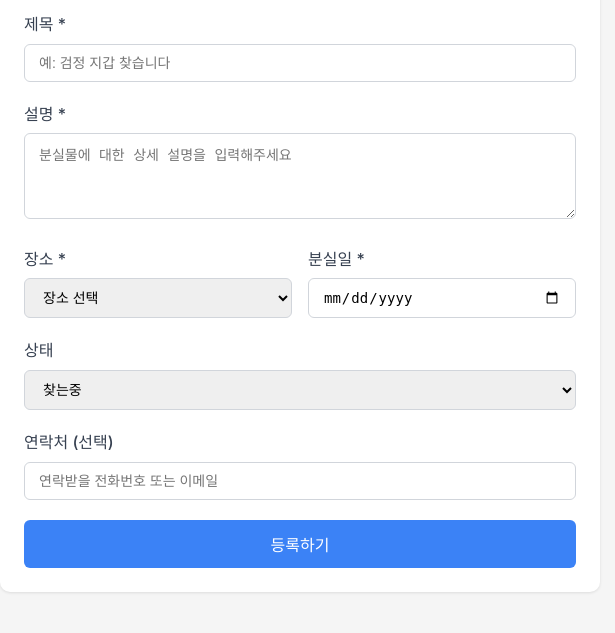
Test: ItemForm › 장소를 선택하지 않으면 에러를 표시한다
Type "검정 지갑 찾습니다" into the field labelled "제목 *" at (300, 63), box x1=24 y1=44 x2=576 y2=82
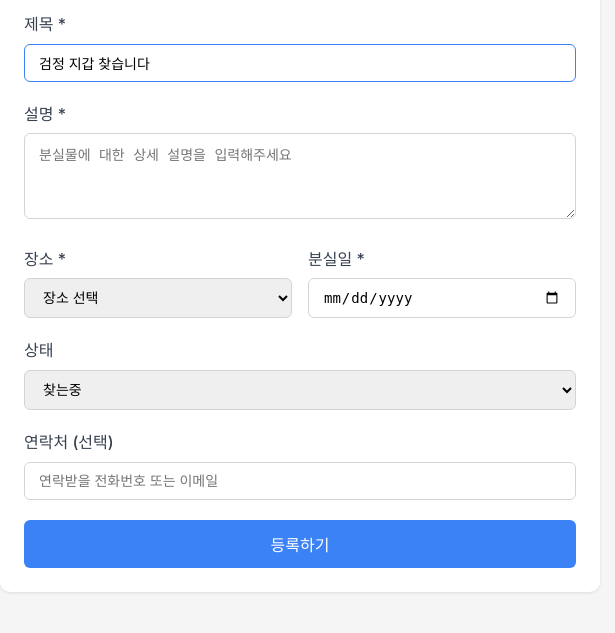
Type "도서관에서 분실한 검정색 가죽 지갑입니다" into the text box labelled "설명 *" at (300, 176), box x1=24 y1=133 x2=576 y2=219
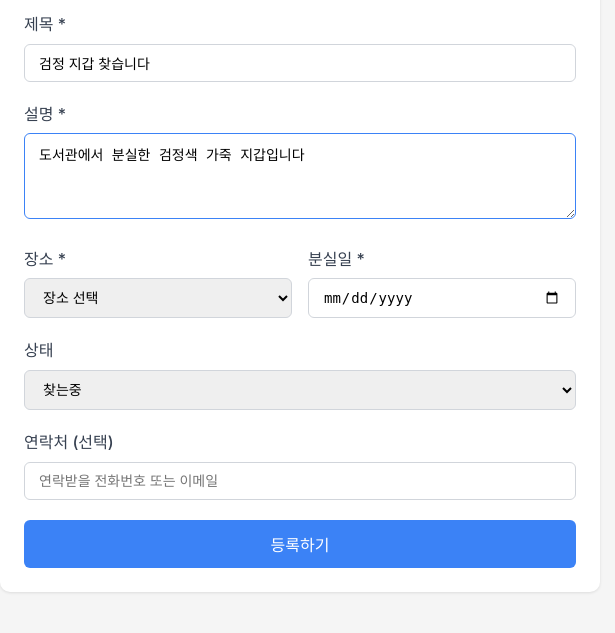
Click the button "등록하기" at (300, 544), box x1=24 y1=520 x2=576 y2=568
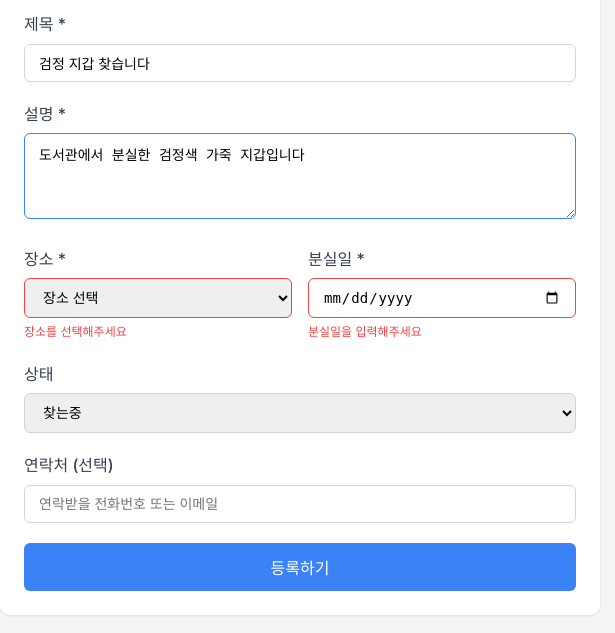
Expected: the text "장소를 선택해주세요" is shown, x1=24 y1=324 x2=127 y2=339
